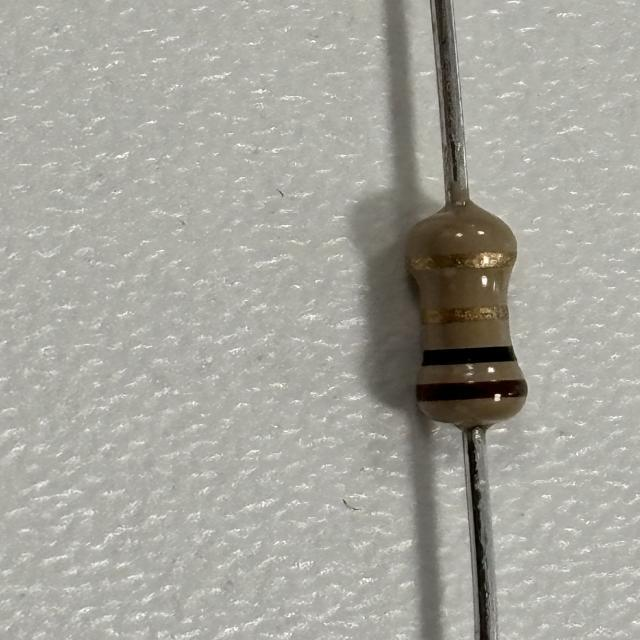resistor: (394, 202, 535, 430)
